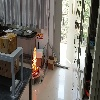fire: (32, 46, 38, 75)
